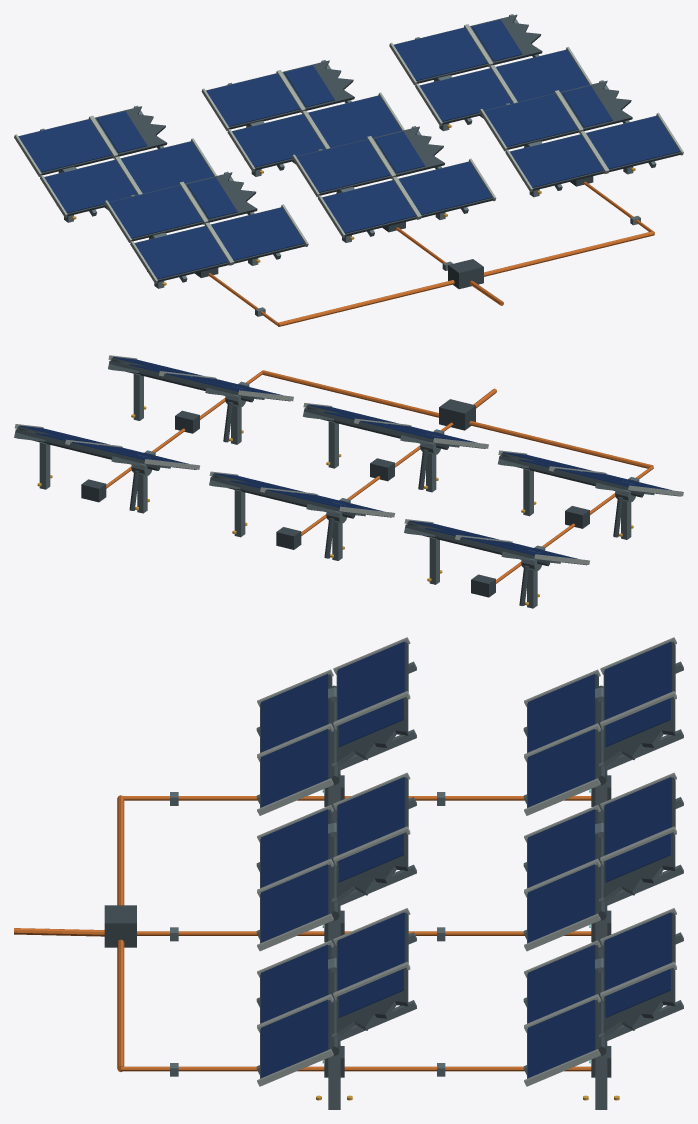
The model's file is solar_array_d1.glb.
3 views of the same model, one above another, from view 1: azimuth 30°, elevation 25°; view 2: azimuth 150°, elevation 25°; view 3: azimuth 270°, elevation 25° (orthographic). The views are drawn at different scales.
Visible parts, largest first — view 1: SOLAR_GAME_MESH_002, SOLAR_GAME_MESH_001, SOLAR_GAME_MESH_003, SOLAR_GAME_MESH_006, SOLAR_GAME_MESH_005, SOLAR_GAME_MESH_004, SOLAR_GAME_MESH; view 2: SOLAR_GAME_MESH, SOLAR_GAME_MESH_005, SOLAR_GAME_MESH_002, SOLAR_GAME_MESH_006, SOLAR_GAME_MESH_001, SOLAR_GAME_MESH_003, SOLAR_GAME_MESH_004; view 3: SOLAR_GAME_MESH, SOLAR_GAME_MESH_001, SOLAR_GAME_MESH_002, SOLAR_GAME_MESH_003, SOLAR_GAME_MESH_004, SOLAR_GAME_MESH_006, SOLAR_GAME_MESH_005.
Boxes of the visible parts, x1=… form: SOLAR_GAME_MESH_002: x1=292, y1=126, x2=496, y2=237; SOLAR_GAME_MESH_001: x1=104, y1=171, x2=308, y2=283; SOLAR_GAME_MESH_003: x1=479, y1=80, x2=683, y2=192; SOLAR_GAME_MESH_006: x1=389, y1=14, x2=592, y2=126; SOLAR_GAME_MESH_005: x1=201, y1=60, x2=404, y2=171; SOLAR_GAME_MESH_004: x1=14, y1=105, x2=216, y2=217; SOLAR_GAME_MESH: x1=56, y1=75, x2=654, y2=326; SOLAR_GAME_MESH: x1=32, y1=370, x2=653, y2=608; SOLAR_GAME_MESH_005: x1=209, y1=471, x2=395, y2=517; SOLAR_GAME_MESH_002: x1=303, y1=403, x2=488, y2=448; SOLAR_GAME_MESH_006: x1=14, y1=424, x2=199, y2=469; SOLAR_GAME_MESH_001: x1=498, y1=450, x2=683, y2=496; SOLAR_GAME_MESH_003: x1=108, y1=355, x2=293, y2=401; SOLAR_GAME_MESH_004: x1=404, y1=519, x2=589, y2=565; SOLAR_GAME_MESH: x1=14, y1=685, x2=619, y2=1109; SOLAR_GAME_MESH_001: x1=256, y1=637, x2=416, y2=815; SOLAR_GAME_MESH_002: x1=256, y1=772, x2=416, y2=951; SOLAR_GAME_MESH_003: x1=256, y1=908, x2=416, y2=1086; SOLAR_GAME_MESH_004: x1=523, y1=637, x2=683, y2=815; SOLAR_GAME_MESH_006: x1=523, y1=908, x2=683, y2=1086; SOLAR_GAME_MESH_005: x1=523, y1=772, x2=683, y2=951.
Bounding box in the file's own units: 16.88 × 2.29 × 12.55.
